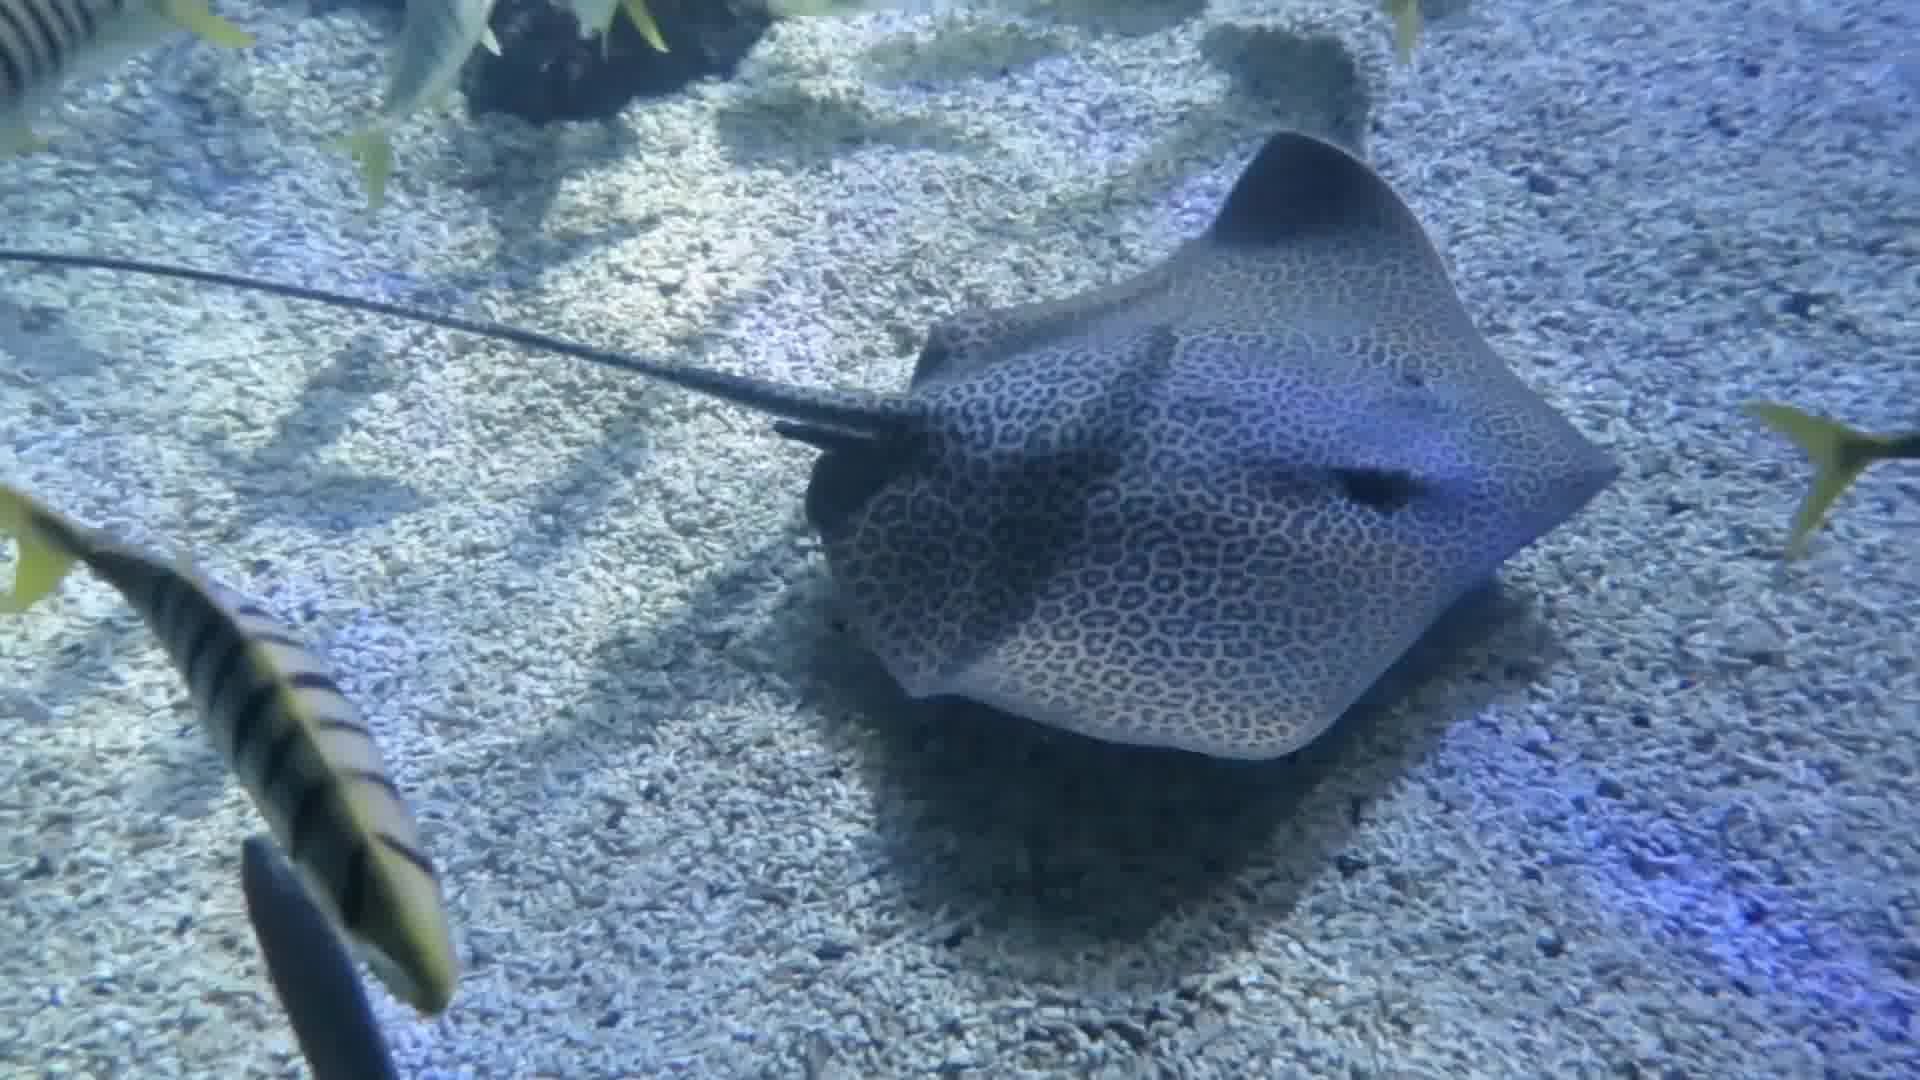Himantura uarnak: (9, 98, 1629, 760)
